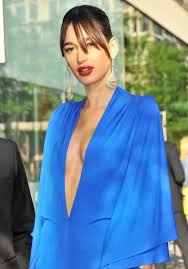middle_eastern_Female: (64, 23, 112, 79)
